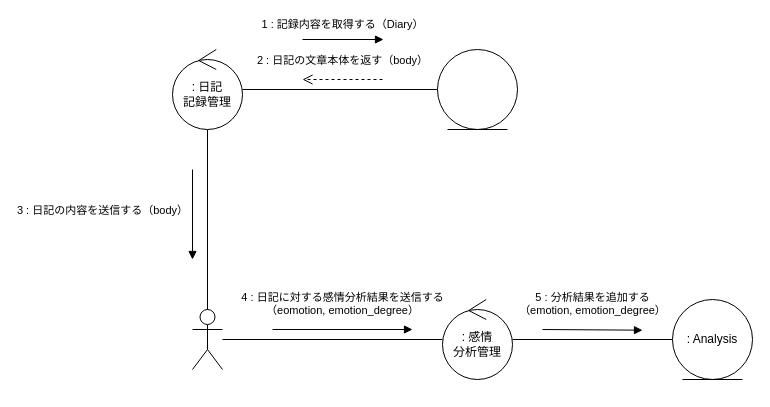
Image size: 770x407. Some labels were removed from this diagram. Each missing label, with the centre of its shape:
: Diary: the point at 477,89
: EmotionAI: the point at 207,339
